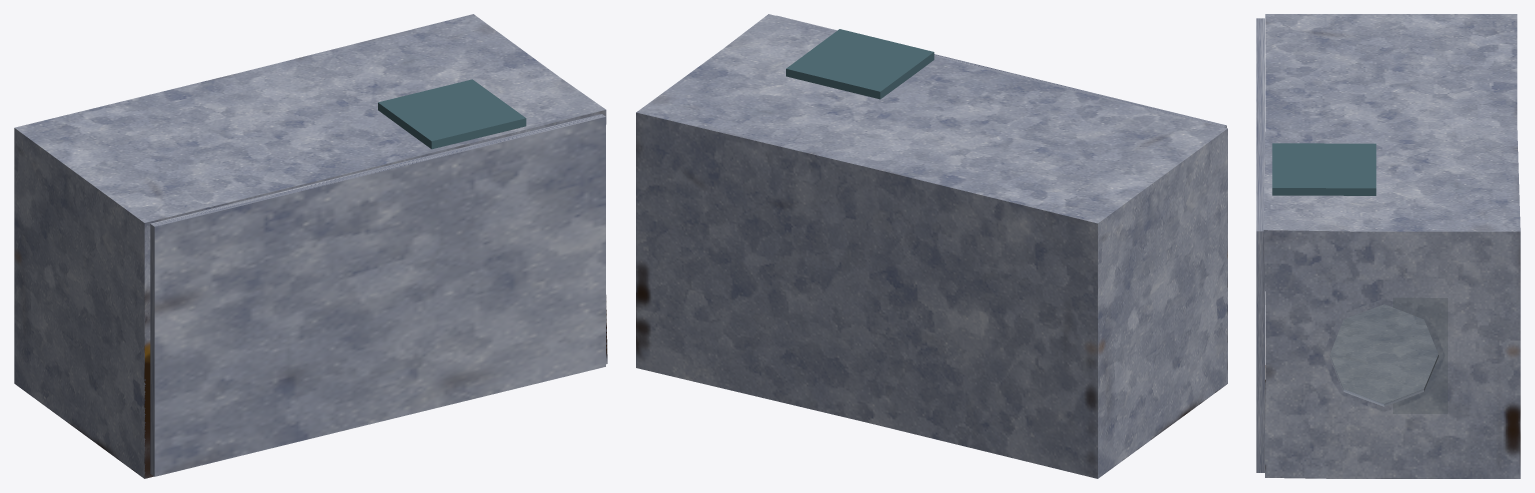
Rendered from Aquatic_room.fbx.
The picture shows the model from 3 angles, left to right: view 1: azimuth 30°, elevation 25°; view 2: azimuth 150°, elevation 25°; view 3: azimuth 270°, elevation 25°; orthographic projection. The views are drawn at different scales.
Visible parts, largest first — view 1: Lone_Wall, Main_Box, Ceiling_Trap_door; view 2: Main_Box, Ceiling_Trap_door, Lone_Wall; view 3: Main_Box, window2, Ceiling_Trap_door, Lone_Wall.
Part boxes in pixels (x1,y1,x2,y2): Lone_Wall: (150,114,605,476); Main_Box: (14,14,607,478); Ceiling_Trap_door: (378,79,526,149); Main_Box: (636,14,1227,478); Ceiling_Trap_door: (786,29,934,99); Lone_Wall: (776,15,1226,127); Main_Box: (1263,14,1520,478); window2: (1330,298,1447,413); Ceiling_Trap_door: (1272,143,1376,195); Lone_Wall: (1256,18,1264,472).
Size of the model in its own units: 60.3 by 32.85 by 30.8.
